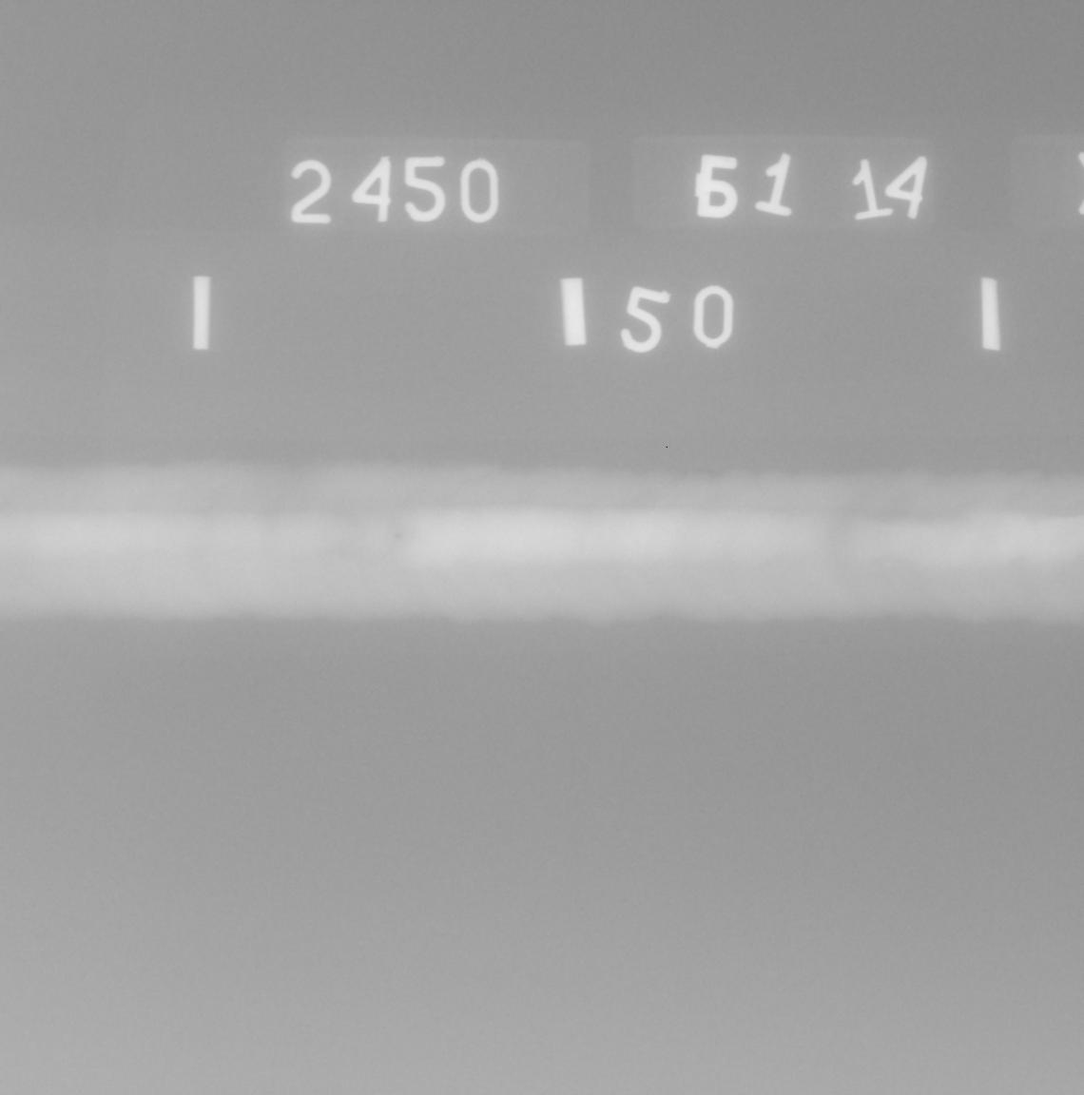Pore/Porosity: (393, 531, 403, 540)
